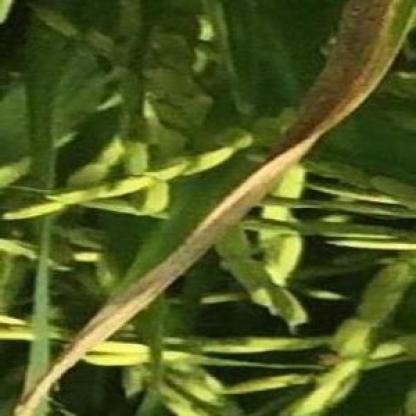Blight: (8, 1, 416, 416)
